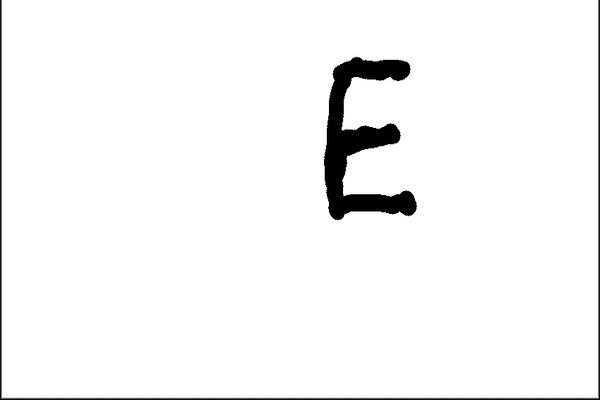E: (316, 53, 422, 223)
